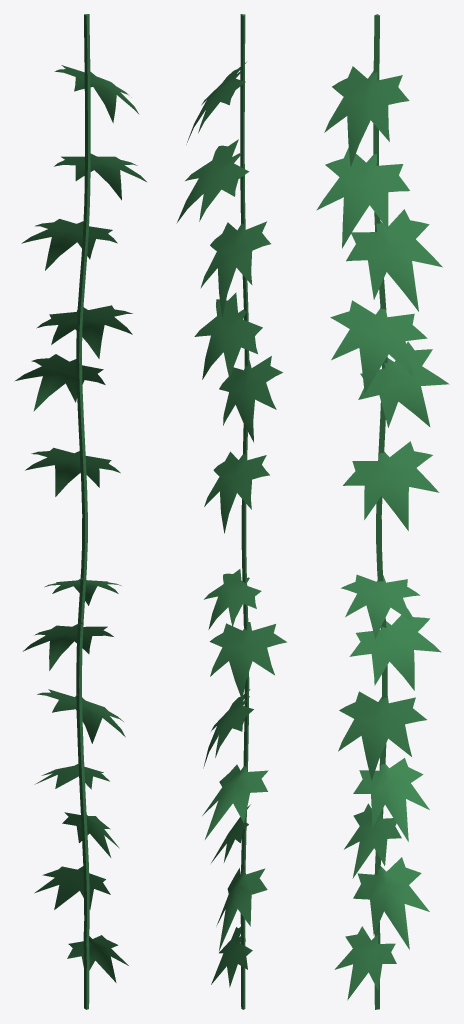
The model's file is vine_D_alangium.fbx.
The picture shows the model from 3 angles, left to right: view 1: azimuth 90°, elevation 25°; view 2: azimuth 210°, elevation 25°; view 3: azimuth 270°, elevation 25°; orthographic projection.
Visible parts, largest first — view 1: vine_D_alangium_root, vine_D_alangium_leaf_B12, vine_D_alangium_leaf_B13, vine_D_alangium_leaf_B14, vine_D_alangium_leaf_B11, vine_D_alangium_leaf_B9, vine_D_alangium_leaf_B15, vine_D_alangium_leaf_A1, vine_D_alangium_leaf_B8, vine_D_alangium_leaf_B16, vine_D_alangium_leaf_A5, vine_D_alangium_leaf_A4 (+2 smaller); view 2: vine_D_alangium_root, vine_D_alangium_leaf_B9, vine_D_alangium_leaf_B14, vine_D_alangium_leaf_B12, vine_D_alangium_leaf_B13, vine_D_alangium_leaf_B15, vine_D_alangium_leaf_B11, vine_D_alangium_leaf_A, vine_D_alangium_leaf_A1, vine_D_alangium_leaf_B17, vine_D_alangium_leaf_B8, vine_D_alangium_leaf_A5 (+2 smaller); view 3: vine_D_alangium_leaf_B14, vine_D_alangium_leaf_B12, vine_D_alangium_leaf_B15, vine_D_alangium_leaf_B11, vine_D_alangium_leaf_B16, vine_D_alangium_leaf_B8, vine_D_alangium_leaf_B13, vine_D_alangium_leaf_B9, vine_D_alangium_leaf_A1, vine_D_alangium_leaf_A, vine_D_alangium_root, vine_D_alangium_leaf_B17 (+2 smaller).
Part boxes in pixels (box(x1,y1,x2,y2)): vine_D_alangium_root: box(76, 14, 90, 1009); vine_D_alangium_leaf_B12: box(36, 305, 132, 358); vine_D_alangium_leaf_B13: box(14, 354, 105, 411); vine_D_alangium_leaf_B14: box(21, 219, 117, 270); vine_D_alangium_leaf_B11: box(25, 447, 120, 496); vine_D_alangium_leaf_B9: box(23, 622, 113, 670); vine_D_alangium_leaf_B15: box(54, 153, 146, 200); vine_D_alangium_leaf_A1: box(34, 865, 110, 909); vine_D_alangium_leaf_B8: box(37, 689, 125, 743); vine_D_alangium_leaf_B16: box(54, 65, 139, 123); vine_D_alangium_leaf_A5: box(67, 935, 128, 982); vine_D_alangium_leaf_A4: box(62, 812, 119, 857); vine_D_alangium_root: box(240, 14, 249, 1009); vine_D_alangium_leaf_B9: box(209, 622, 286, 699); vine_D_alangium_leaf_B14: box(200, 219, 270, 316); vine_D_alangium_leaf_B12: box(194, 292, 262, 380); vine_D_alangium_leaf_B13: box(219, 356, 282, 442); vine_D_alangium_leaf_B15: box(176, 139, 249, 223); vine_D_alangium_leaf_B11: box(204, 451, 269, 533); vine_D_alangium_leaf_A: box(202, 764, 268, 839); vine_D_alangium_leaf_A1: box(216, 865, 267, 950); vine_D_alangium_leaf_B17: box(204, 569, 261, 629); vine_D_alangium_leaf_B8: box(203, 689, 253, 768); vine_D_alangium_leaf_A5: box(211, 926, 252, 987); vine_D_alangium_leaf_B14: box(346, 209, 442, 311); vine_D_alangium_leaf_B12: box(330, 300, 427, 393); vine_D_alangium_leaf_B15: box(316, 147, 409, 248); vine_D_alangium_leaf_B11: box(343, 441, 439, 530); vine_D_alangium_leaf_B16: box(324, 66, 409, 166); vine_D_alangium_leaf_B8: box(338, 691, 426, 780); vine_D_alangium_leaf_B13: box(358, 341, 449, 427); vine_D_alangium_leaf_B9: box(349, 608, 441, 690); vine_D_alangium_leaf_A1: box(353, 857, 429, 949); vine_D_alangium_leaf_A: box(353, 758, 429, 841); vine_D_alangium_root: box(373, 14, 387, 1009); vine_D_alangium_leaf_B17: box(341, 574, 420, 639).
Size of the model in its own units: 32.55 by 427 by 51.9.
